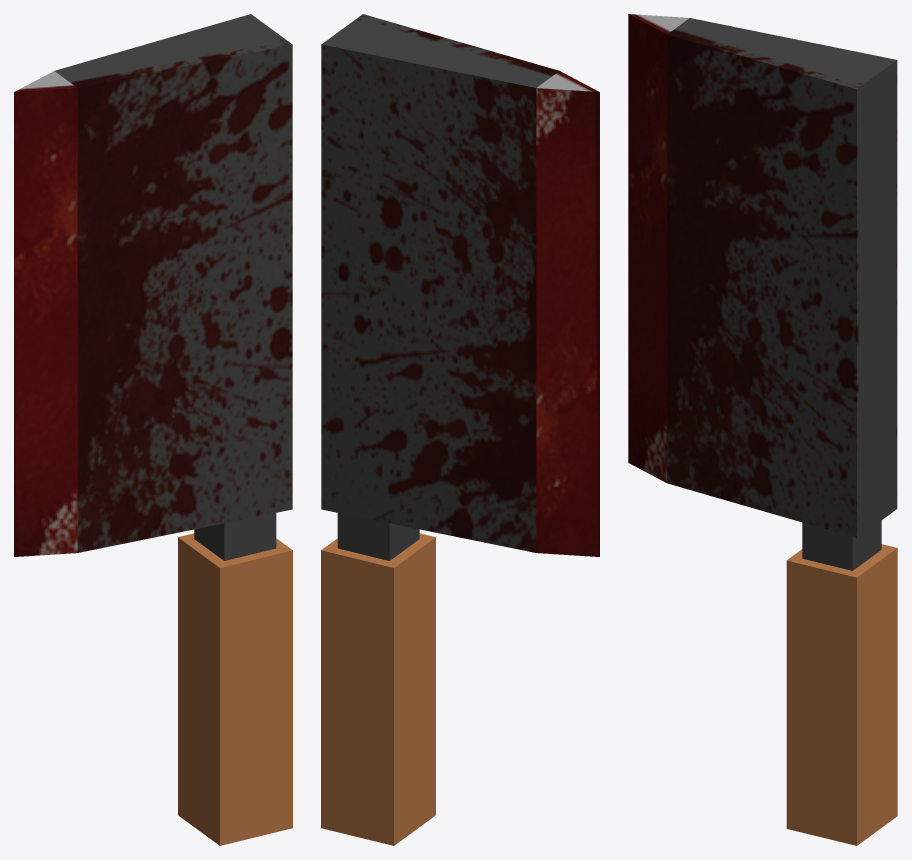
Rendered from coutelas4_PLY.fbx.
3 views of the same model, side by side, from view 1: azimuth 30°, elevation 25°; view 2: azimuth 150°, elevation 25°; view 3: azimuth 330°, elevation 25° (orthographic). The views are drawn at different scales.
Parts seen in each view (by area): view 1: coutelas4_PLY; view 2: coutelas4_PLY; view 3: coutelas4_PLY.
Part boxes in pixels (x1=…): coutelas4_PLY: x1=14, y1=14, x2=292, y2=845; coutelas4_PLY: x1=321, y1=14, x2=599, y2=845; coutelas4_PLY: x1=628, y1=14, x2=897, y2=845.
Bounding box in the file's own units: 0.5928 × 1.72 × 0.1677.
